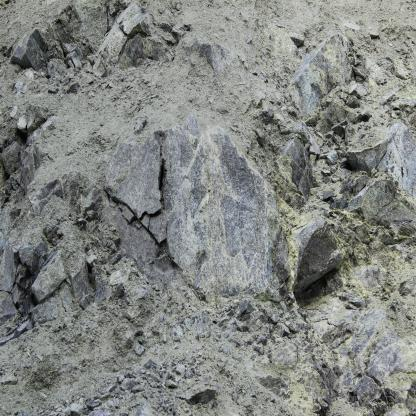stone: (292, 218, 344, 292), (30, 250, 67, 302), (351, 175, 370, 196), (14, 319, 31, 338), (86, 249, 97, 267), (327, 149, 338, 165), (332, 133, 343, 144), (322, 190, 334, 200), (45, 50, 54, 61), (346, 55, 354, 65), (67, 59, 74, 69), (328, 137, 335, 147), (18, 305, 25, 314), (321, 169, 331, 175), (330, 166, 336, 173)
